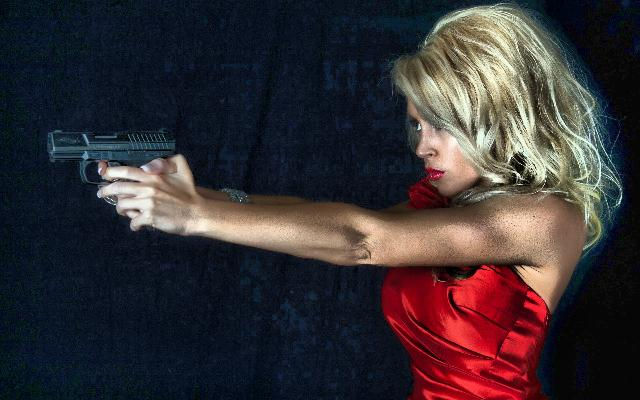pistol: (46, 125, 184, 232)
